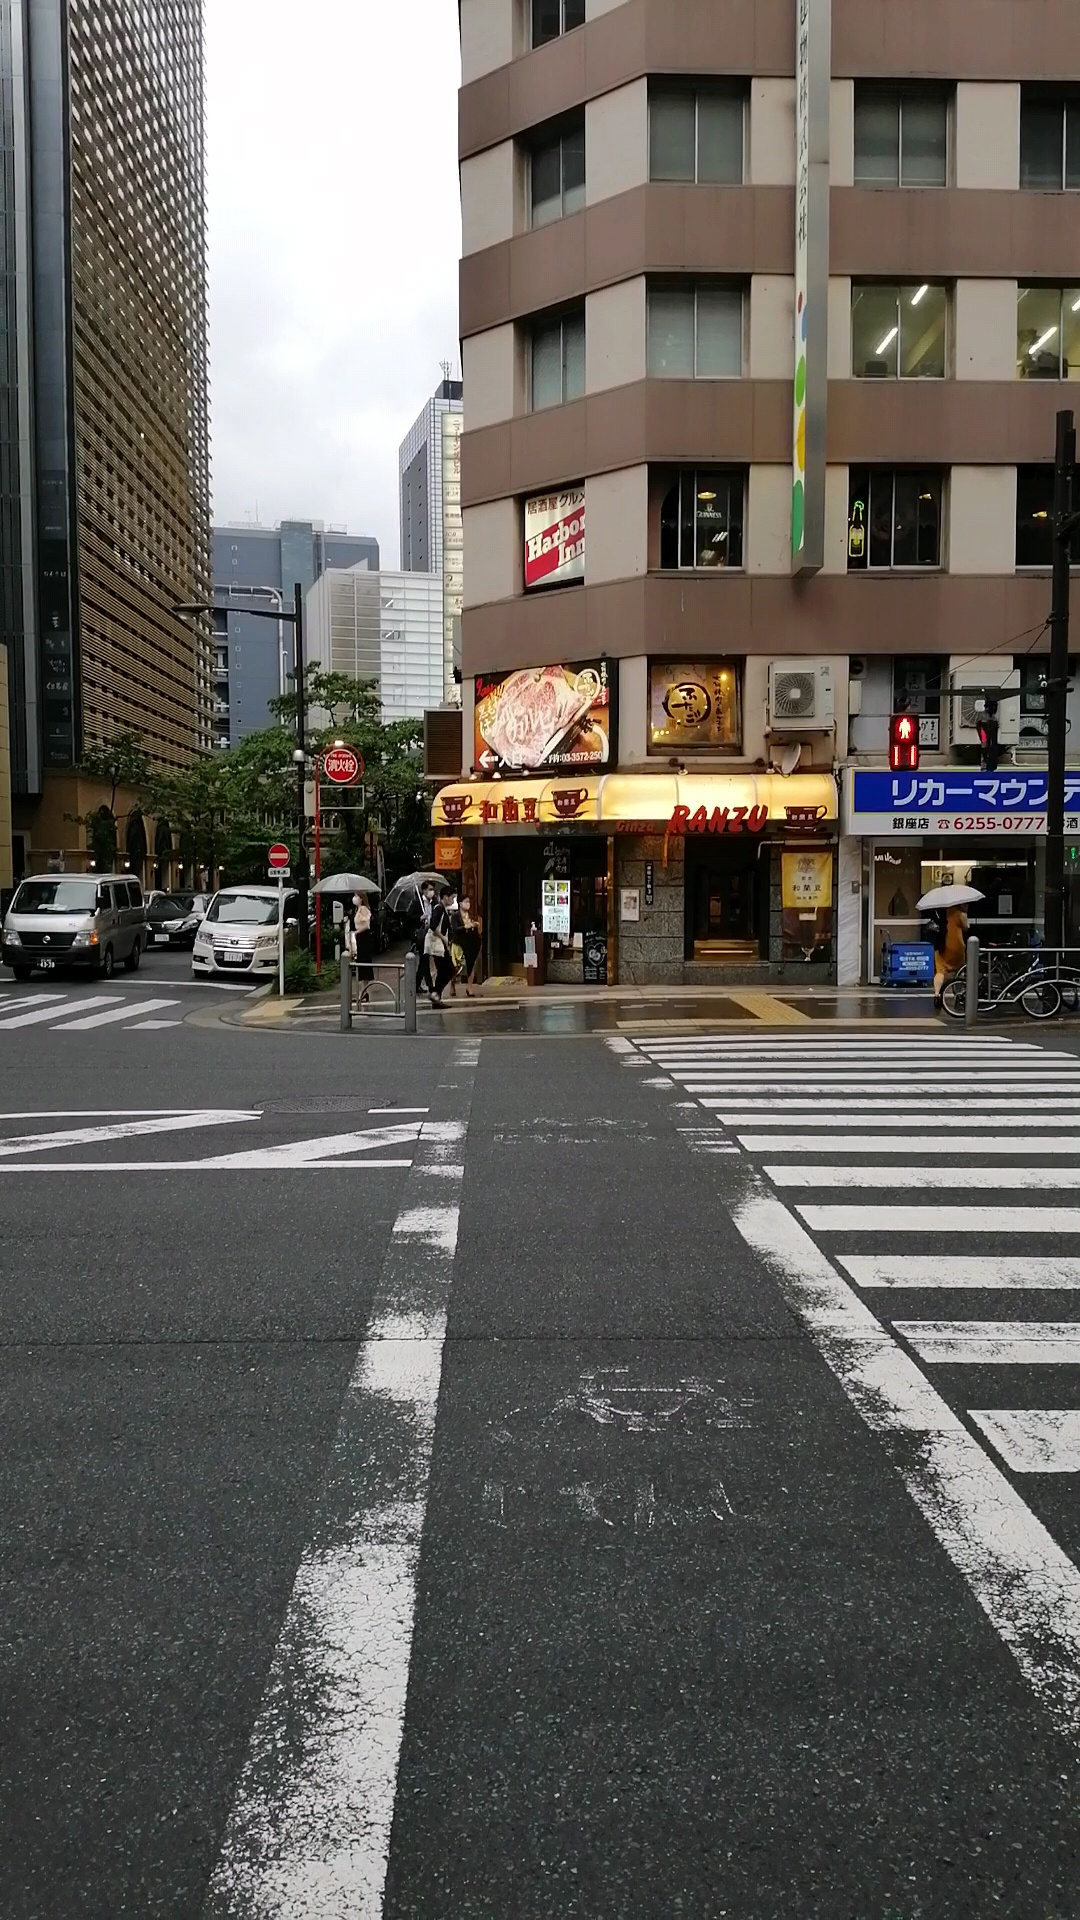red: (887, 711, 919, 771)
